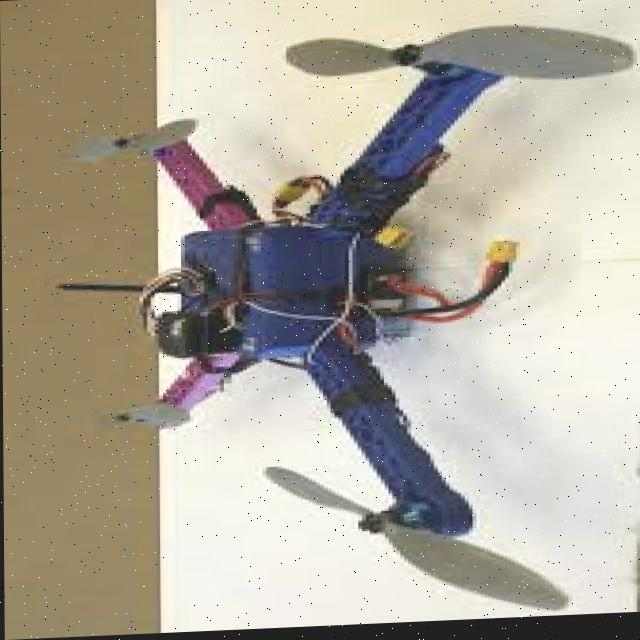drone: (65, 20, 640, 621)
